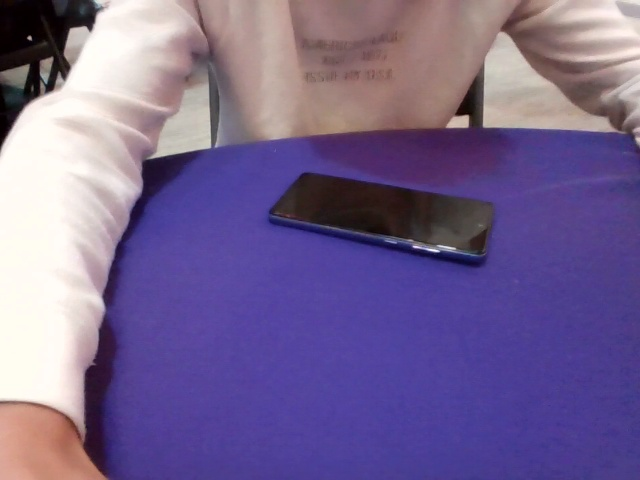celular: (268, 170, 495, 267)
